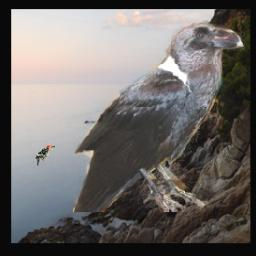Crow: (73, 20, 245, 212)
Woodpecker: (36, 145, 56, 166)
